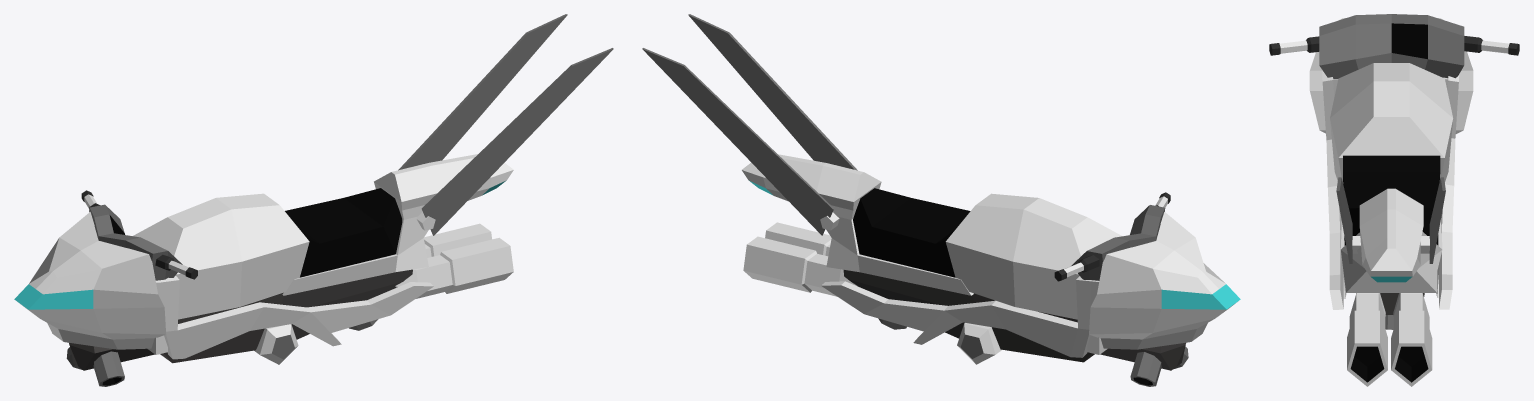
Rendered from Hoverbike.fbx.
3 renders of one model, left to right at view 1: azimuth 30°, elevation 25°; view 2: azimuth 150°, elevation 25°; view 3: azimuth 270°, elevation 25°, orthographic. The views are drawn at different scales.
Parts seen in each view (by area): view 1: Hoverbike; view 2: Hoverbike; view 3: Hoverbike.
Boxes of the visible parts, x1=… form: Hoverbike: x1=14, y1=14, x2=613, y2=386; Hoverbike: x1=642, y1=14, x2=1240, y2=386; Hoverbike: x1=1269, y1=14, x2=1519, y2=386.
Size of the model in its own units: 557 by 223 by 185.
